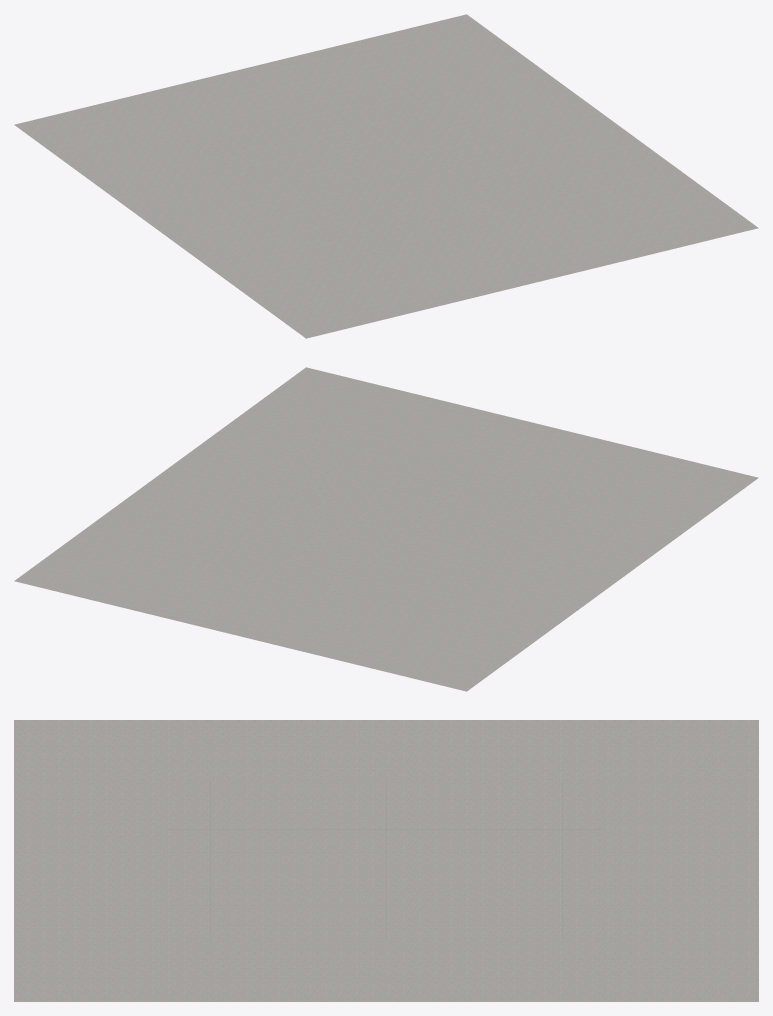
The model's file is yard_floor.glb.
3 renders of one model, top to bottom at view 1: azimuth 30°, elevation 25°; view 2: azimuth 150°, elevation 25°; view 3: azimuth 270°, elevation 25°, orthographic. The views are drawn at different scales.
Visible parts, largest first — view 1: yard_floor; view 2: yard_floor; view 3: yard_floor.
Part boxes in pixels (bbox=[...]): yard_floor: bbox=[14, 14, 758, 338]; yard_floor: bbox=[14, 367, 758, 691]; yard_floor: bbox=[14, 720, 758, 1001].
Size of the model in its own units: 170 by 0.0015 by 190.
Materials: 2 (1 with a texture image).
